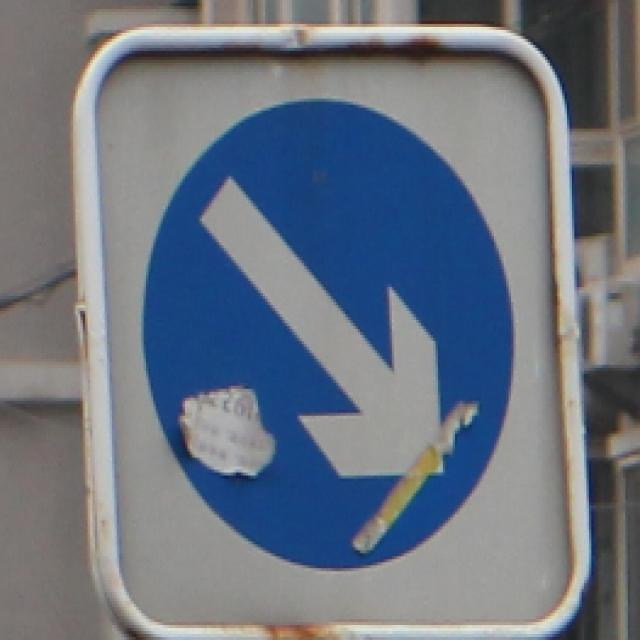Right: (110, 52, 554, 606)
